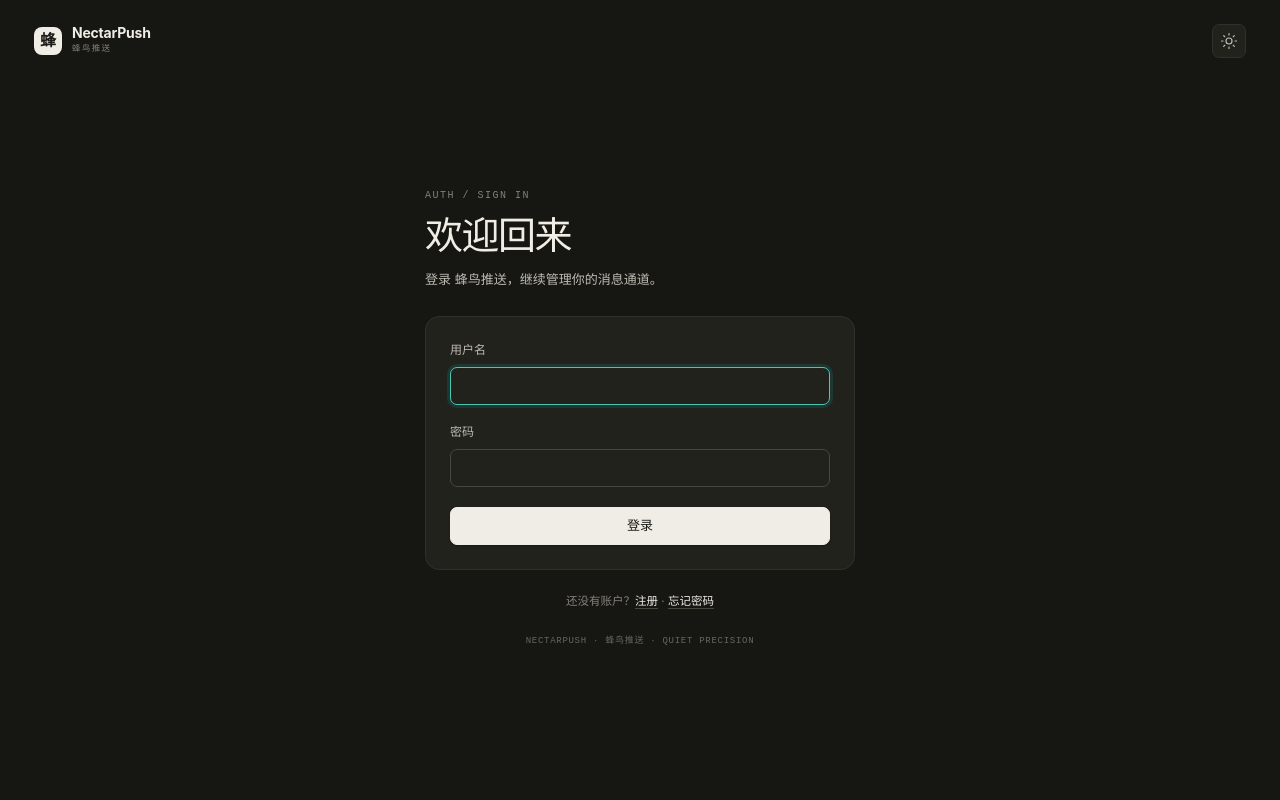
Test: LoginPage › blocks submission with an inline message when fields are empty
Click the button "登录".
click(640, 526)  # box top-left (450, 507), bottom-right (830, 545)
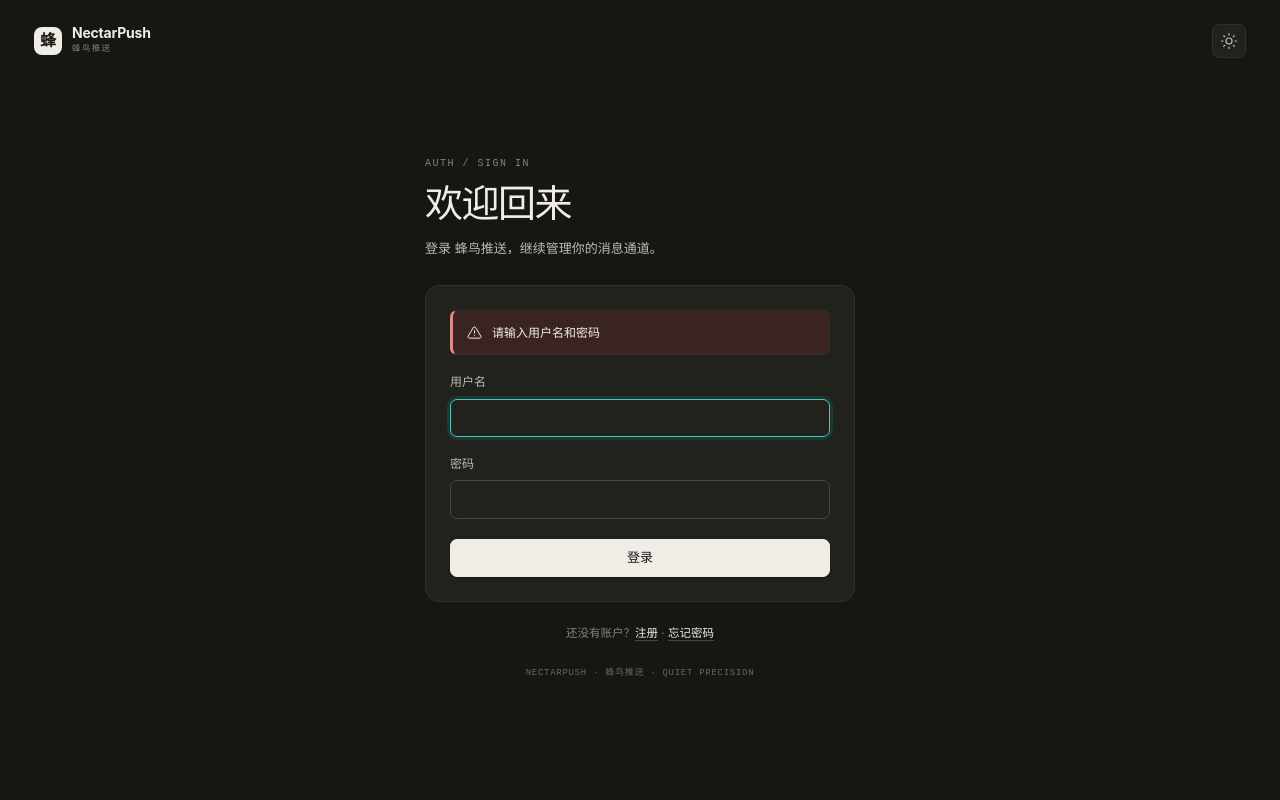
Now the text "请输入用户名和密码" is shown, box top-left (492, 325), bottom-right (600, 340)
